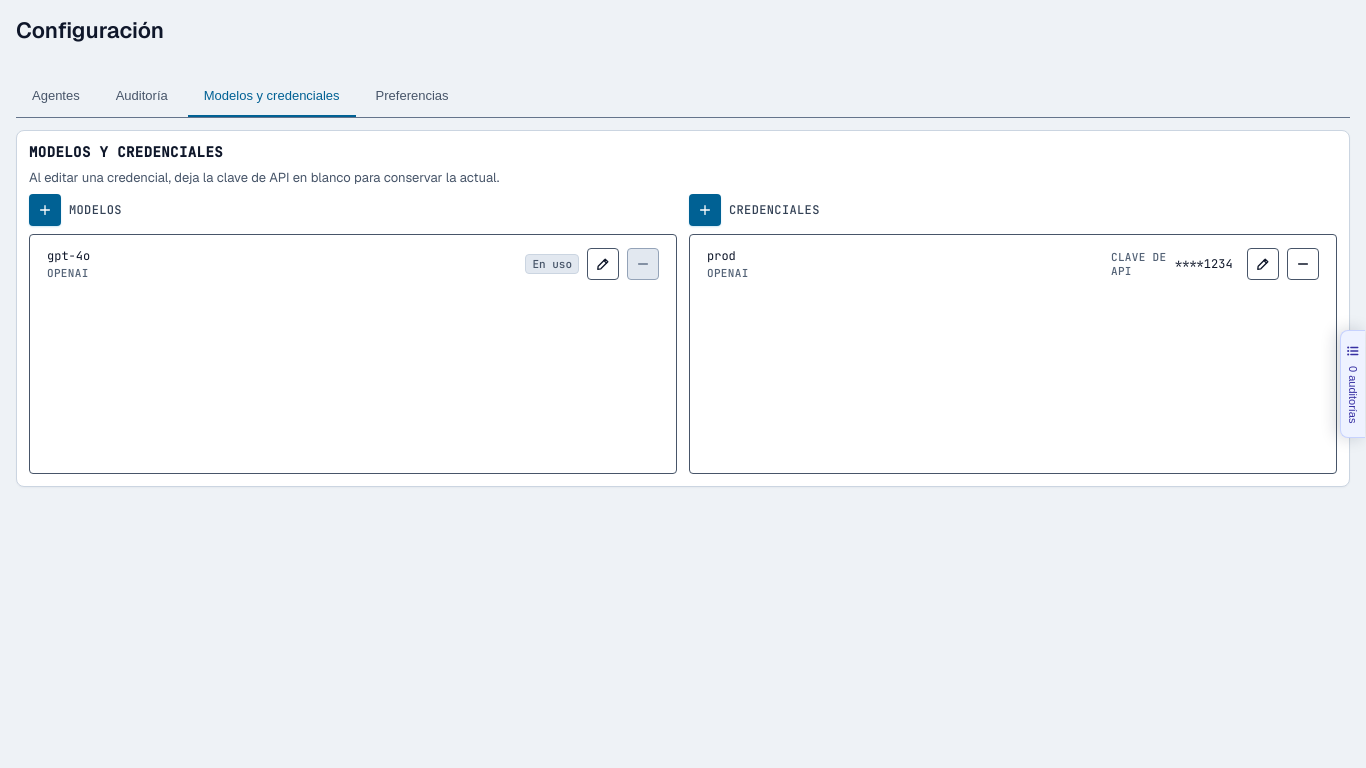
SettingsPage › translates model registration errors to Spanish keeping backend details
Expected: the option "gpt-4o OpenAI En uso" is shown, [34, 239, 672, 288]
Click the button named "Añadir modelo" at (45, 210), box [29, 194, 61, 226]
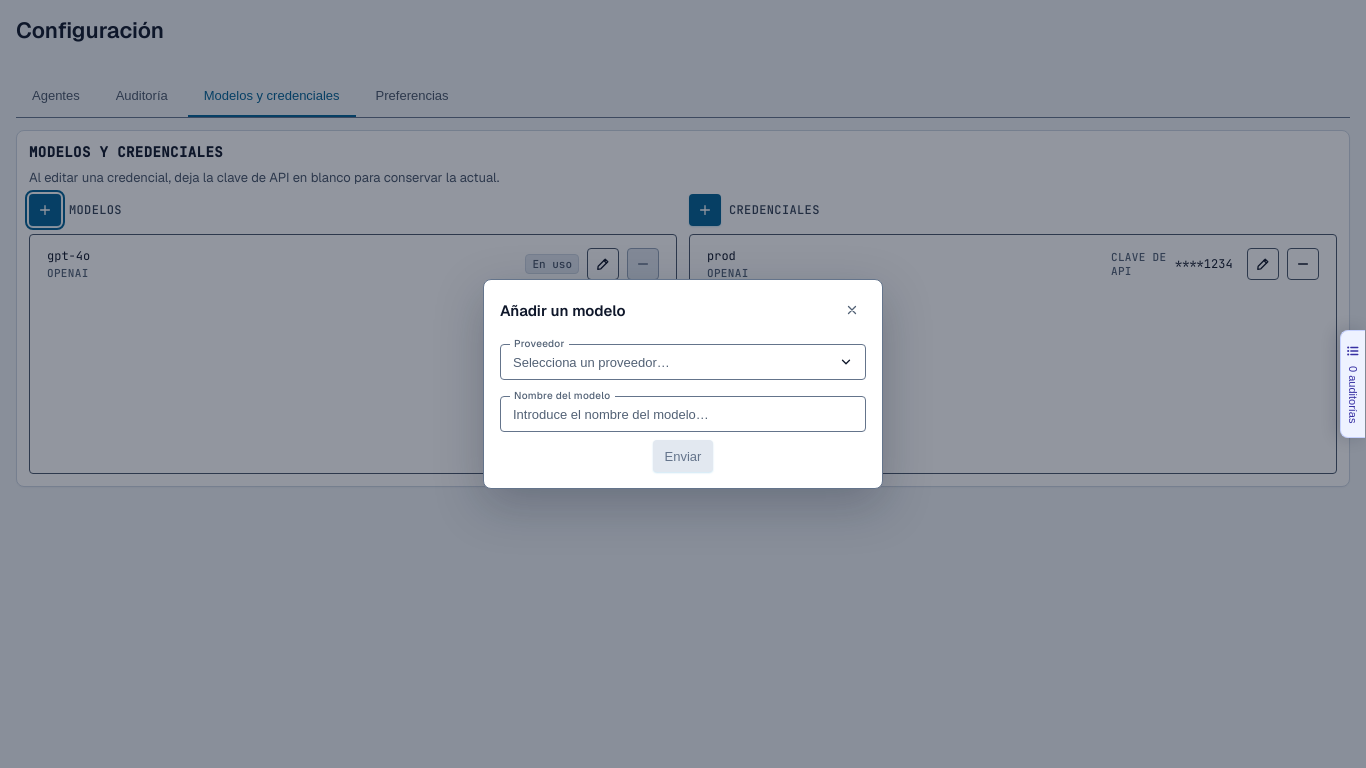
Click the button "Selecciona un proveedor…" at (591, 362), box [500, 344, 866, 380]
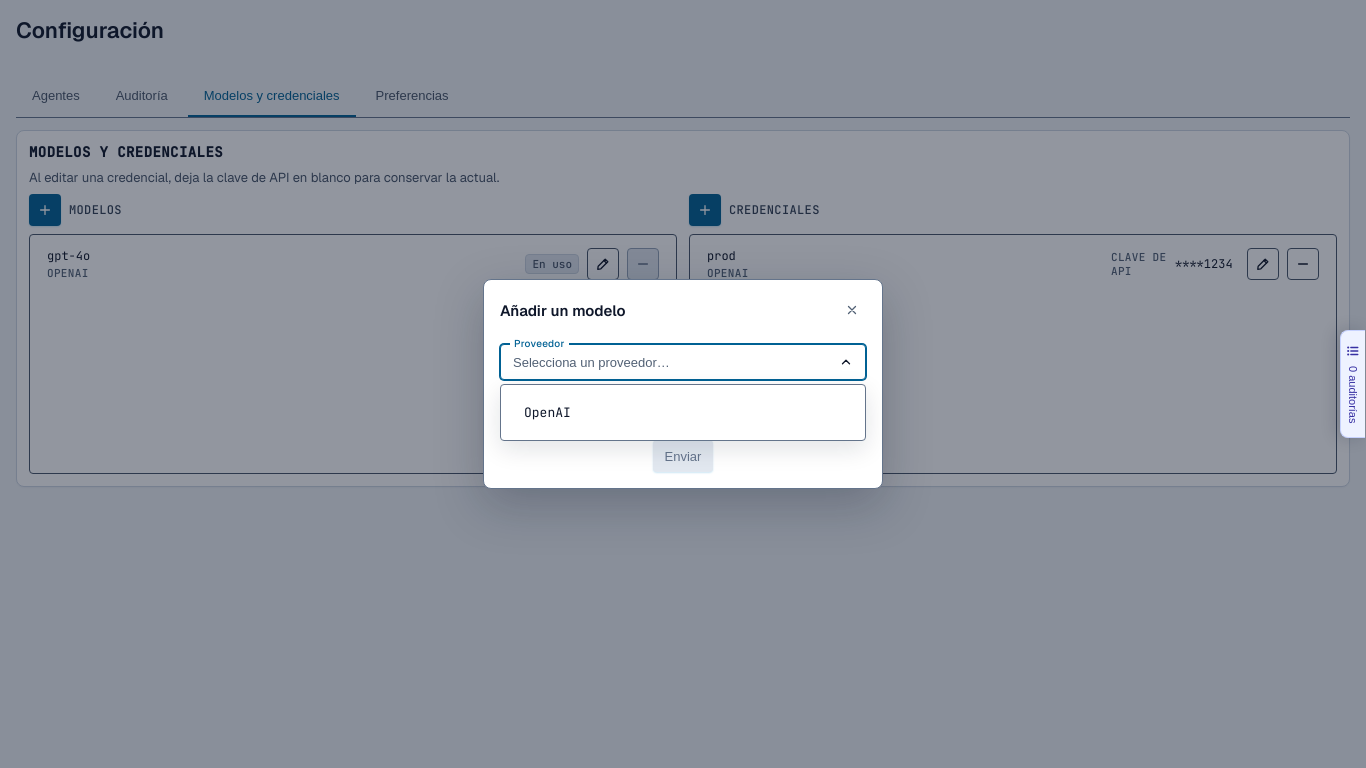
Click the option "OpenAI" at (547, 412), box [511, 395, 855, 430]
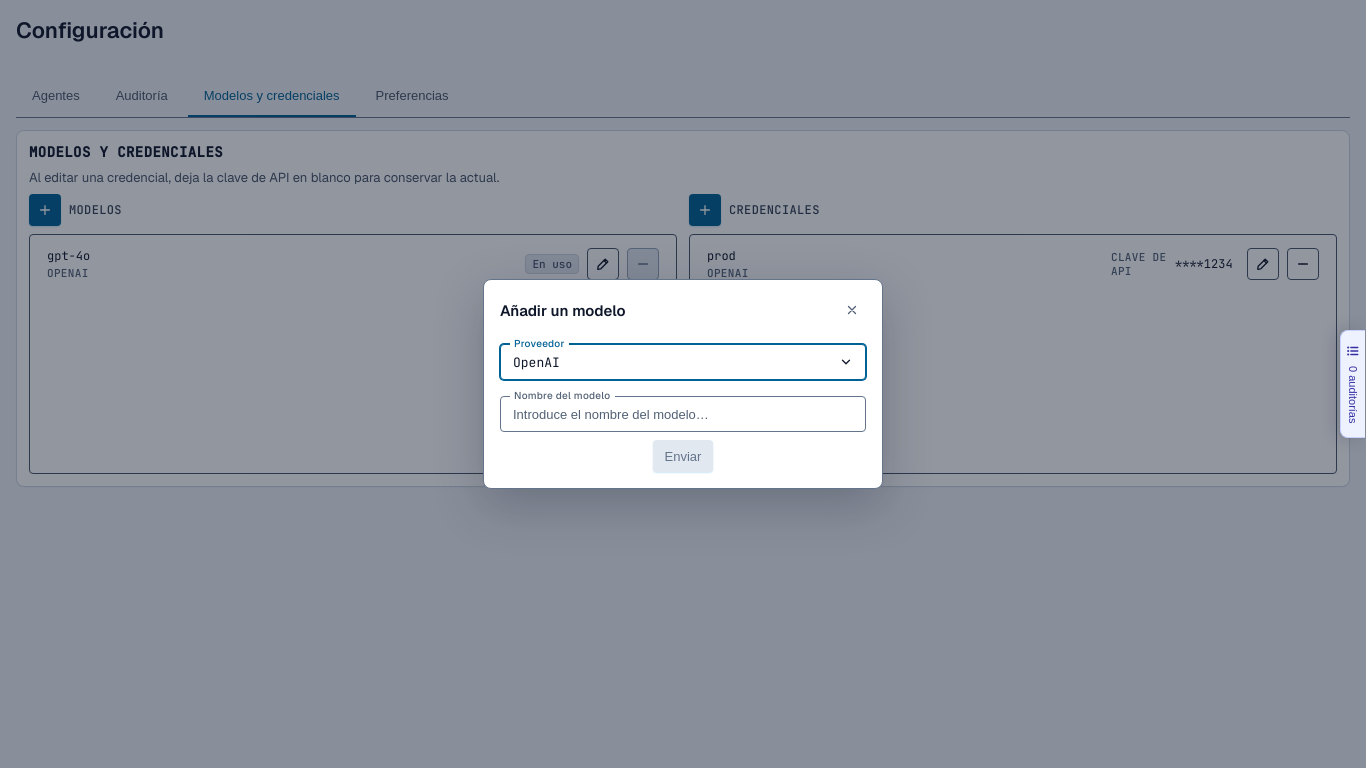
Type "gpt-4o" into the field with placeholder "Introduce el nombre del modelo…" at (683, 414), box [500, 396, 866, 432]
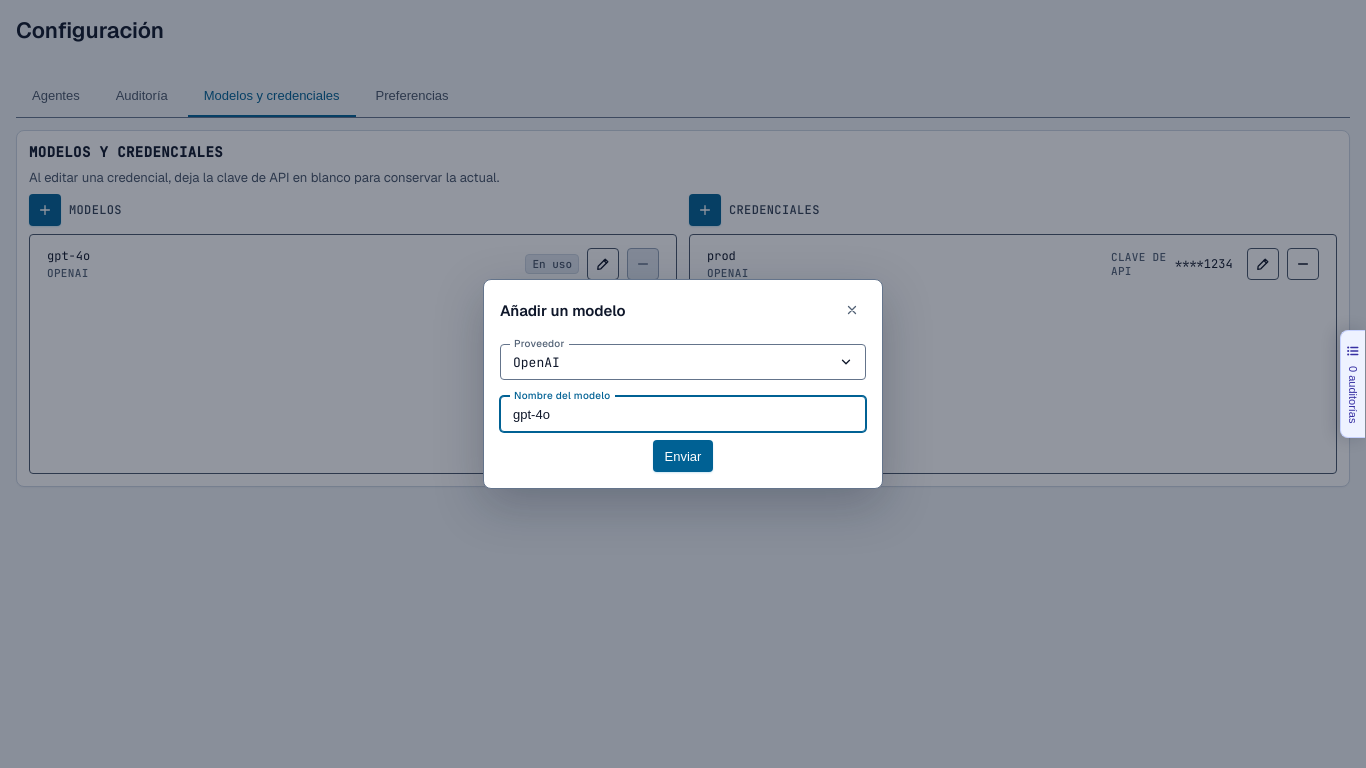
Click the button "Enviar" at (683, 456), box [653, 440, 714, 472]
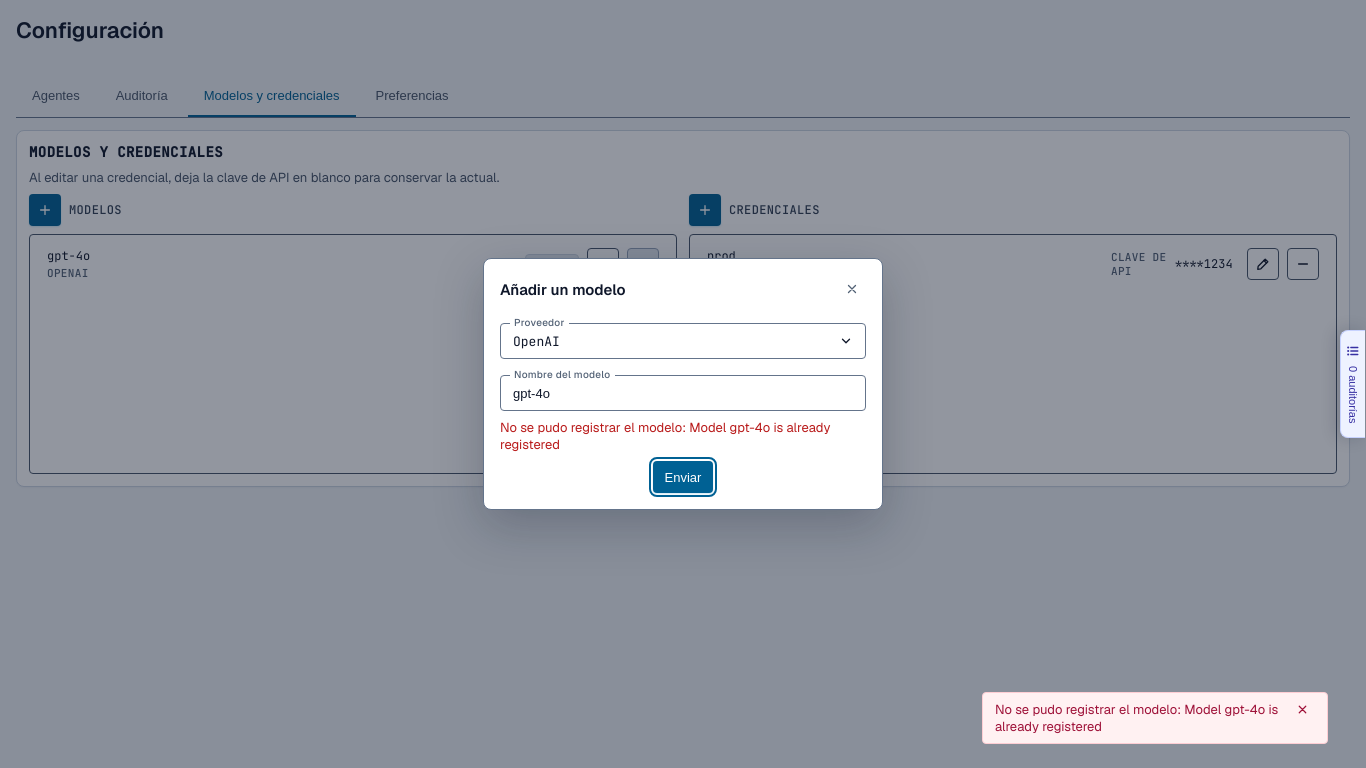
Now the dialog "Añadir un modelo" is shown, box [483, 258, 883, 510]
Now the text "No se pudo registrar el modelo: Model gpt-4o is already registered" is shown 2 times, box [500, 419, 866, 453]; [995, 701, 1282, 735]
